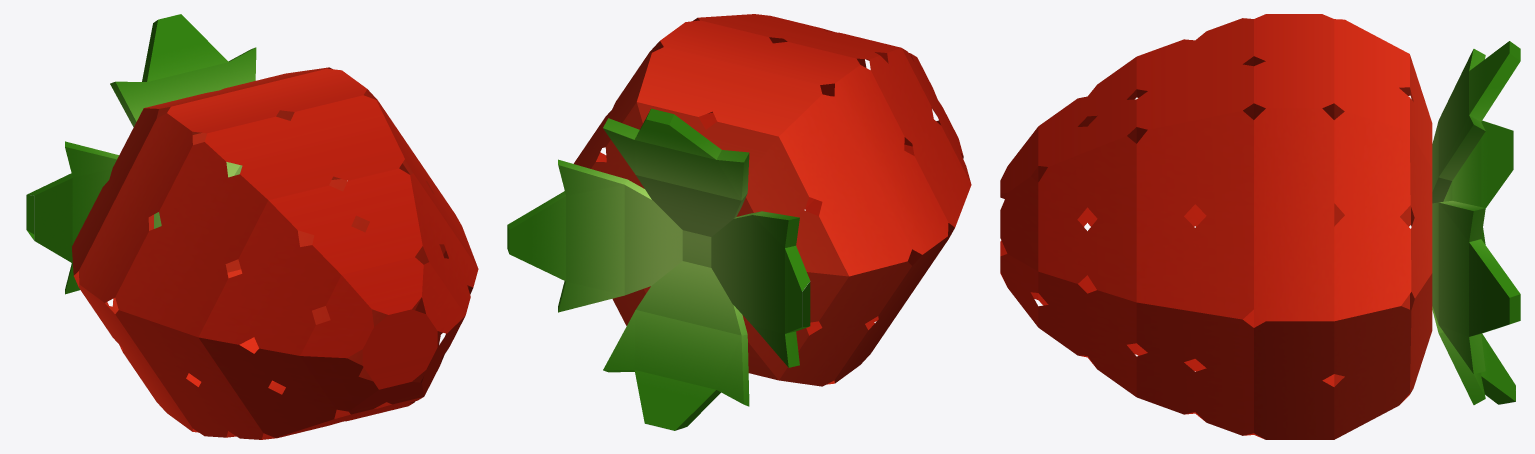
File: strawb.fbx
3 renders of one model, left to right at view 1: azimuth 30°, elevation 25°; view 2: azimuth 150°, elevation 25°; view 3: azimuth 270°, elevation 25°, orthographic. The views are drawn at different scales.
Visible parts, largest first — view 1: berry, leaf; view 2: berry, leaf; view 3: berry, leaf.
Part boxes in pixels (<box>): berry: <box>72,67,478,439</box>; leaf: <box>26,14,256,294</box>; berry: <box>573,14,971,386</box>; leaf: <box>507,108,810,430</box>; berry: <box>1000,14,1432,439</box>; leaf: <box>1432,41,1520,404</box>.
Size of the model in its own units: 3.92 by 3.49 by 4.57.
